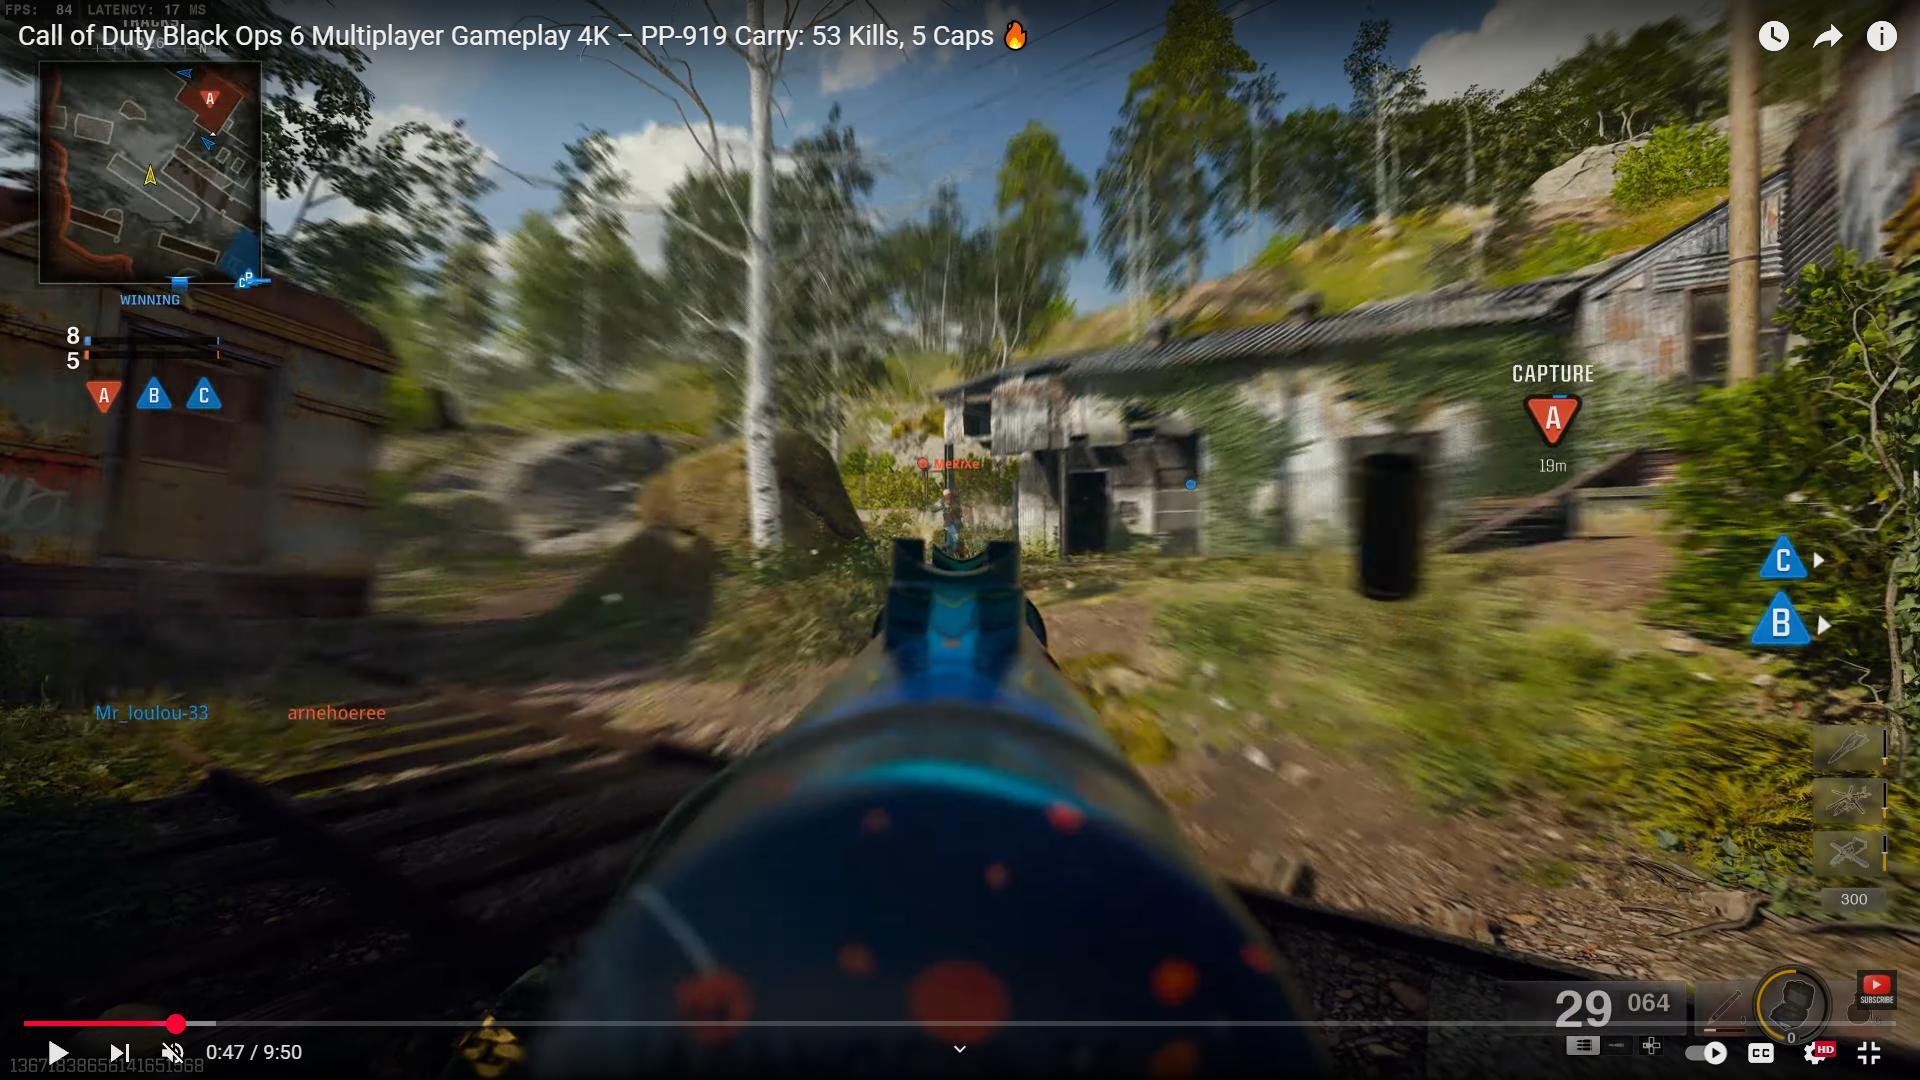Enemy: (922, 476, 964, 541)
